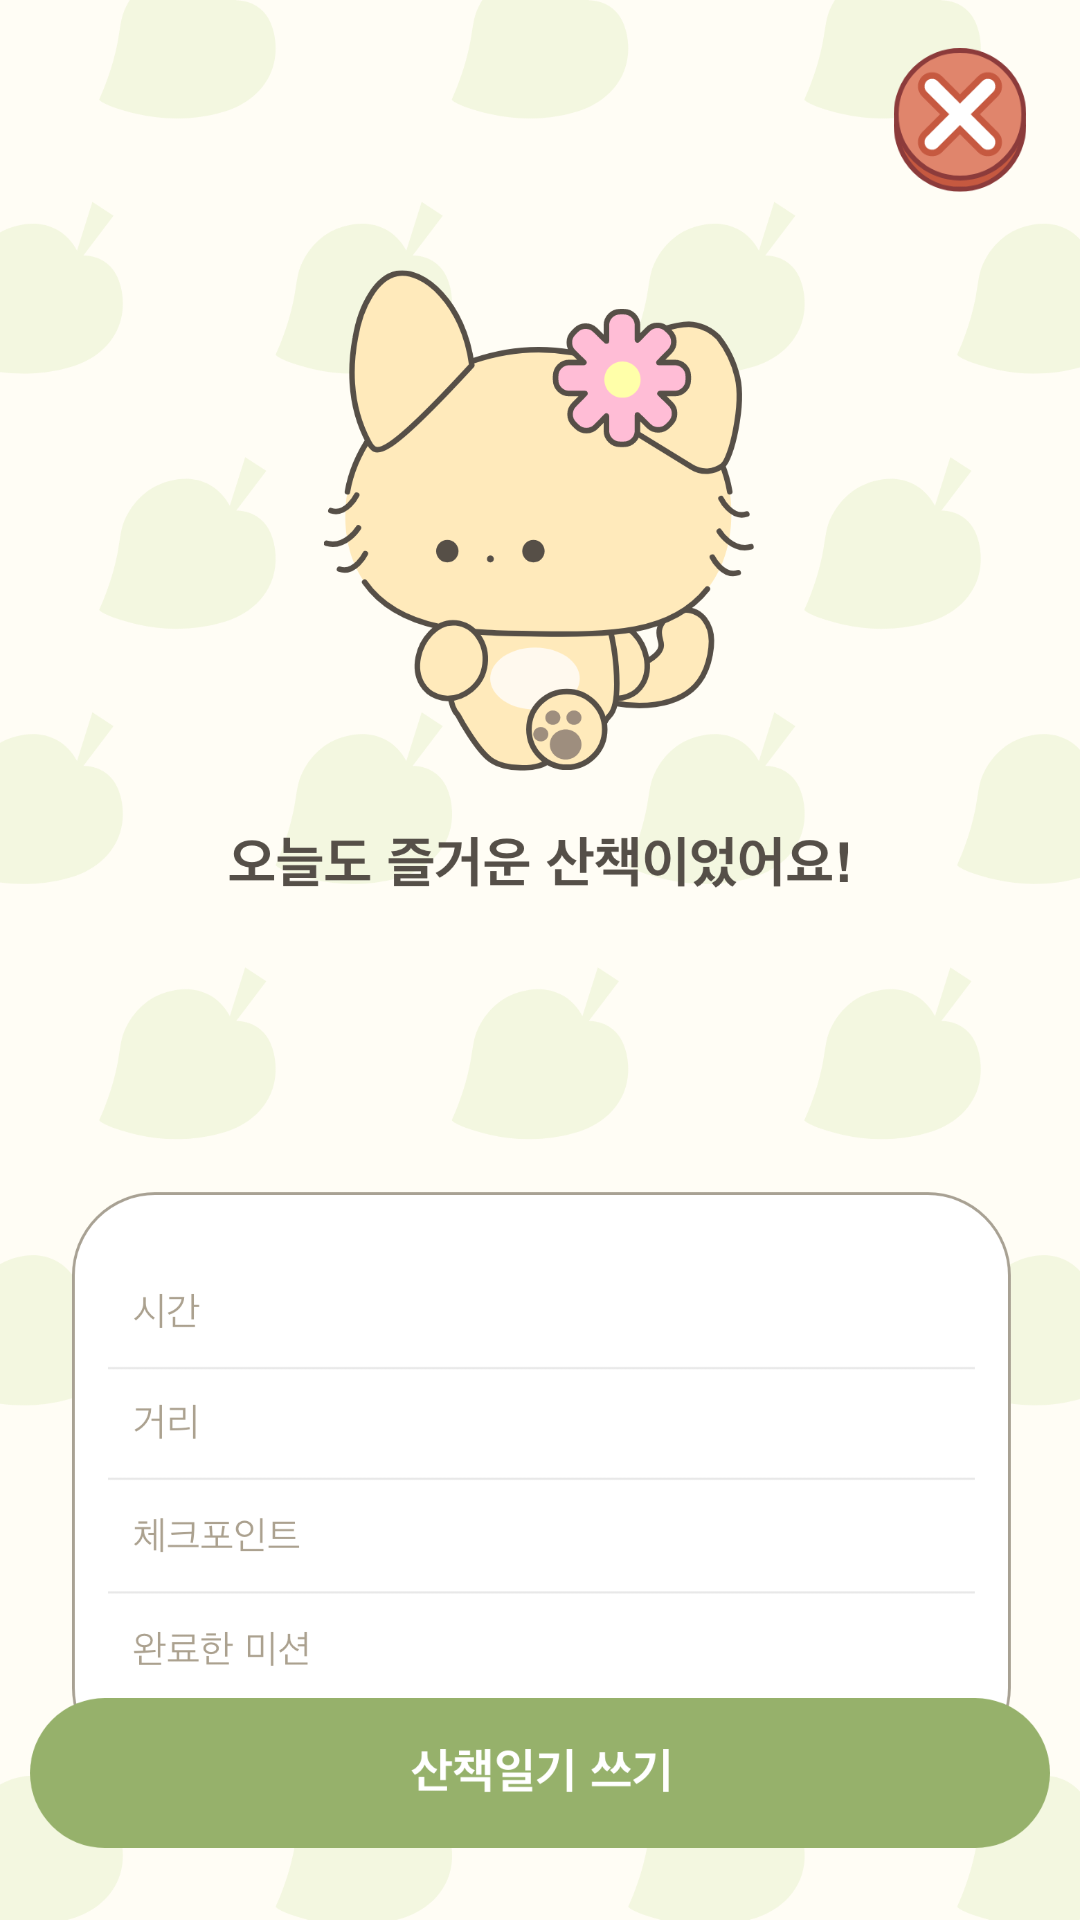

Screen size 1080*1920. Icon name, then its box in pixels as (x1, y1, x2, y2):
circle close: (894, 48, 1026, 192)
